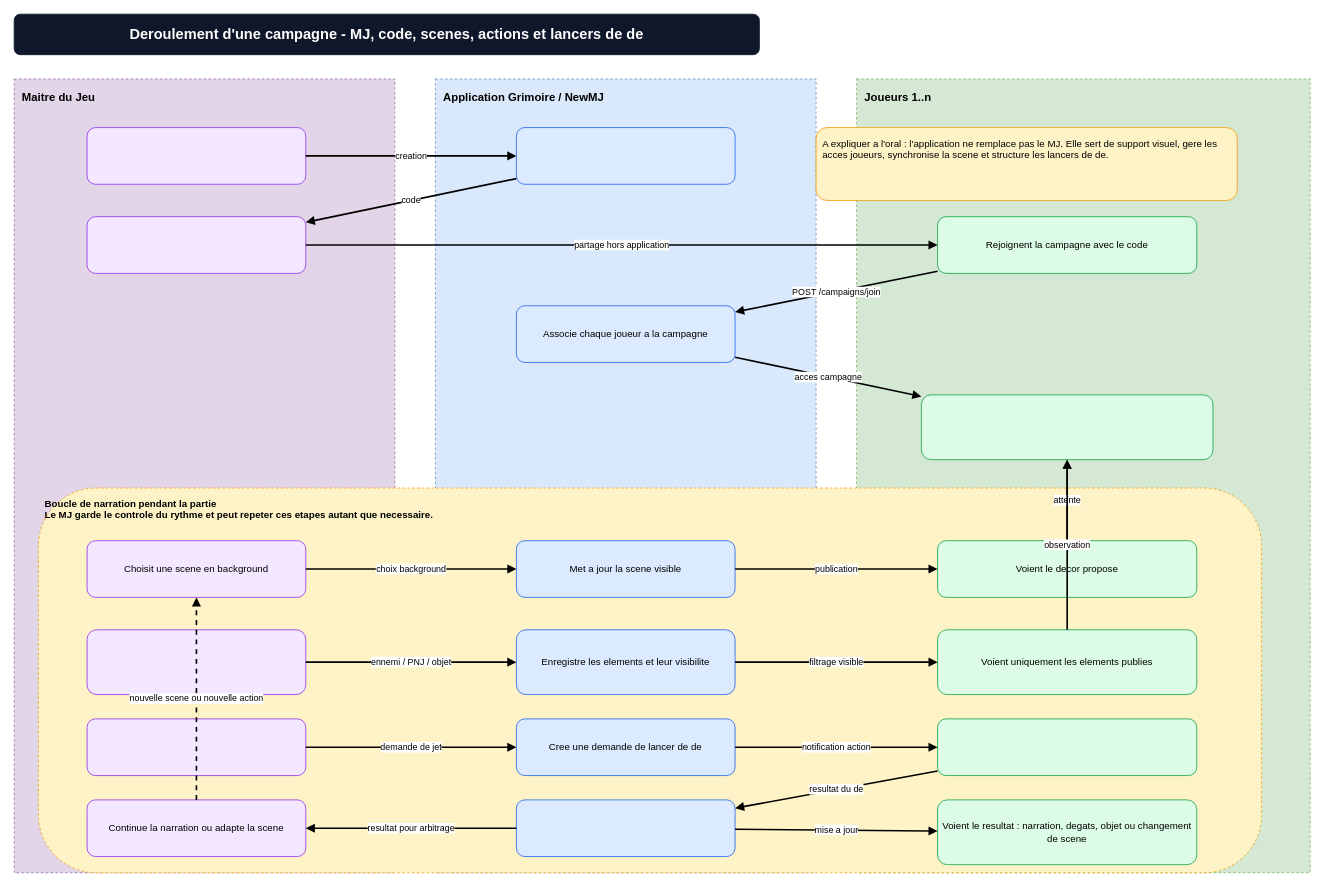
The diagram is 1324 pixels wide and 887 high, and some of its shapes have lost their labels. The box of each missing label's shape, as (x1, y1, x2, y2) in pixels:
Ajoute a volonte : ennemis, PNJ, objets: (86, 629, 306, 695)
Calcule l'issue et applique la consequence: (516, 799, 735, 857)
Cree et lance la campagne: (86, 127, 306, 184)
Donne le code aux joueurs: (86, 216, 306, 273)
Genere un code de campagne: (516, 127, 735, 184)
Lance le de et envoie le resultat: (937, 718, 1197, 776)
Propose une action a resoudre: (86, 718, 306, 776)
Visualisent la campagne et attendent les actions proposees: (921, 394, 1213, 460)
